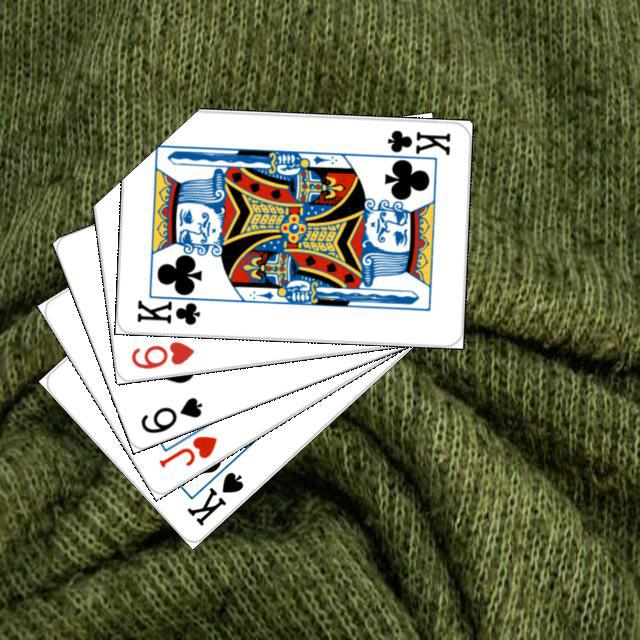6h: (126, 336, 196, 371)
6s: (135, 392, 204, 436)
Jh: (154, 430, 219, 470)
Kc: (131, 289, 209, 327), (375, 125, 452, 162)
Ks: (181, 466, 245, 528)
